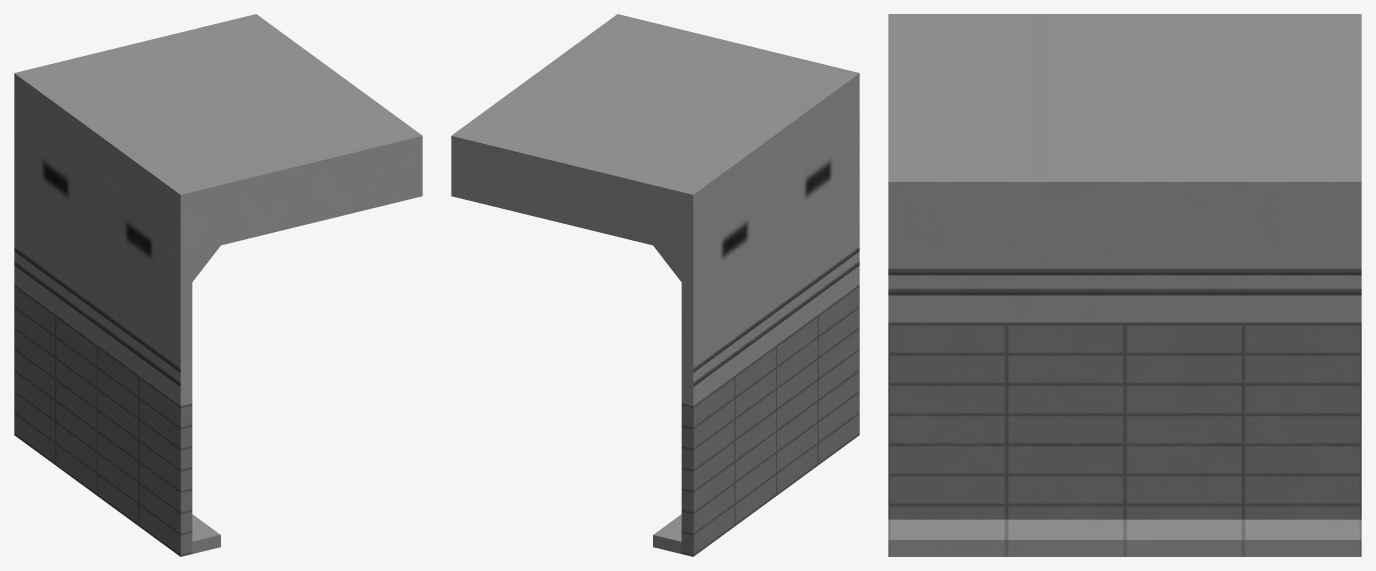
The model's file is 【組立式】地下トンネル(右)_W4m×D5m×H5m.fbx.
3 renders of one model, left to right at view 1: azimuth 30°, elevation 25°; view 2: azimuth 150°, elevation 25°; view 3: azimuth 270°, elevation 25°, orthographic. The views are drawn at different scales.
Visible parts, largest first — view 1: 地下トンネル; view 2: 地下トンネル; view 3: 地下トンネル.
Part boxes in pixels (x1,y1,x2,y2): 地下トンネル: (14,14,422,556); 地下トンネル: (451,14,859,556); 地下トンネル: (888,14,1361,556).
Size of the model in its own units: 4.2 by 6 by 5.
